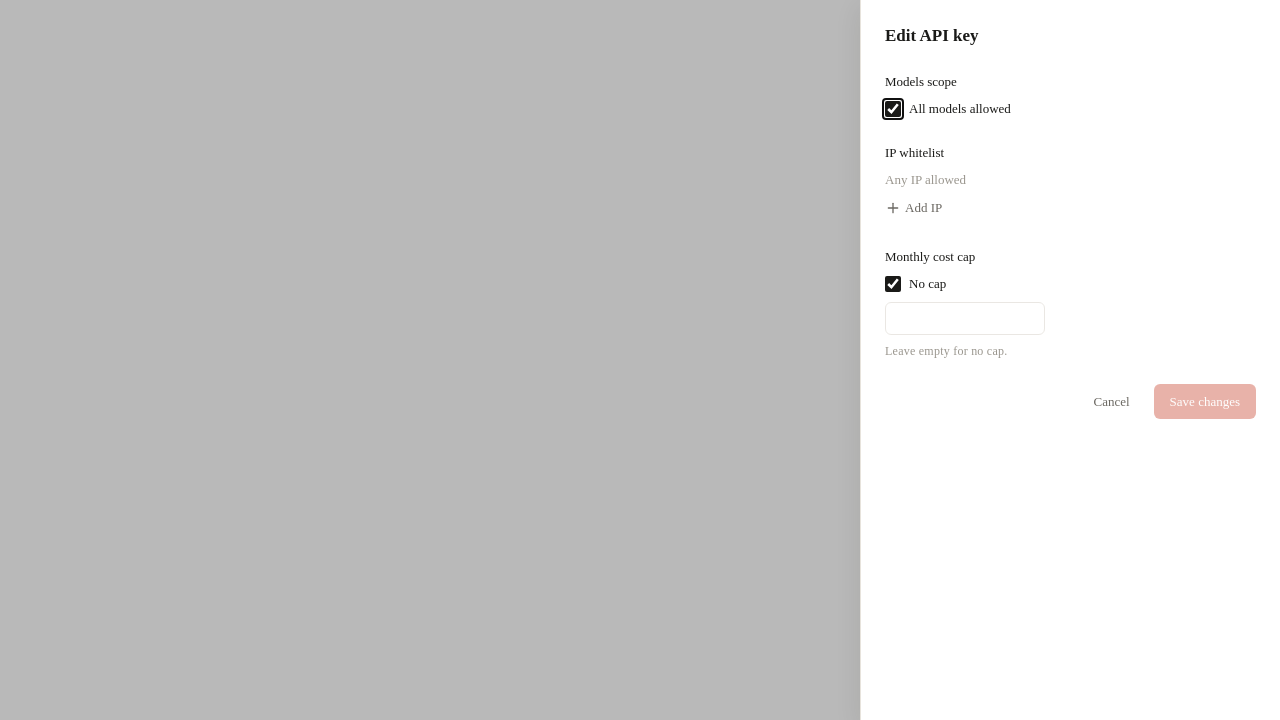
Test: AC3: Configure — ConfigureKeyDrawer / IpWhitelistEditor (component) › [BLIND-SPOT] 5.5-BLIND-DATA-003: configure 400 → form retains input + error toast + NO row mutation
Step 1. Click the checkbox labelled "No cap" → [893, 284], box [885, 276, 901, 292]
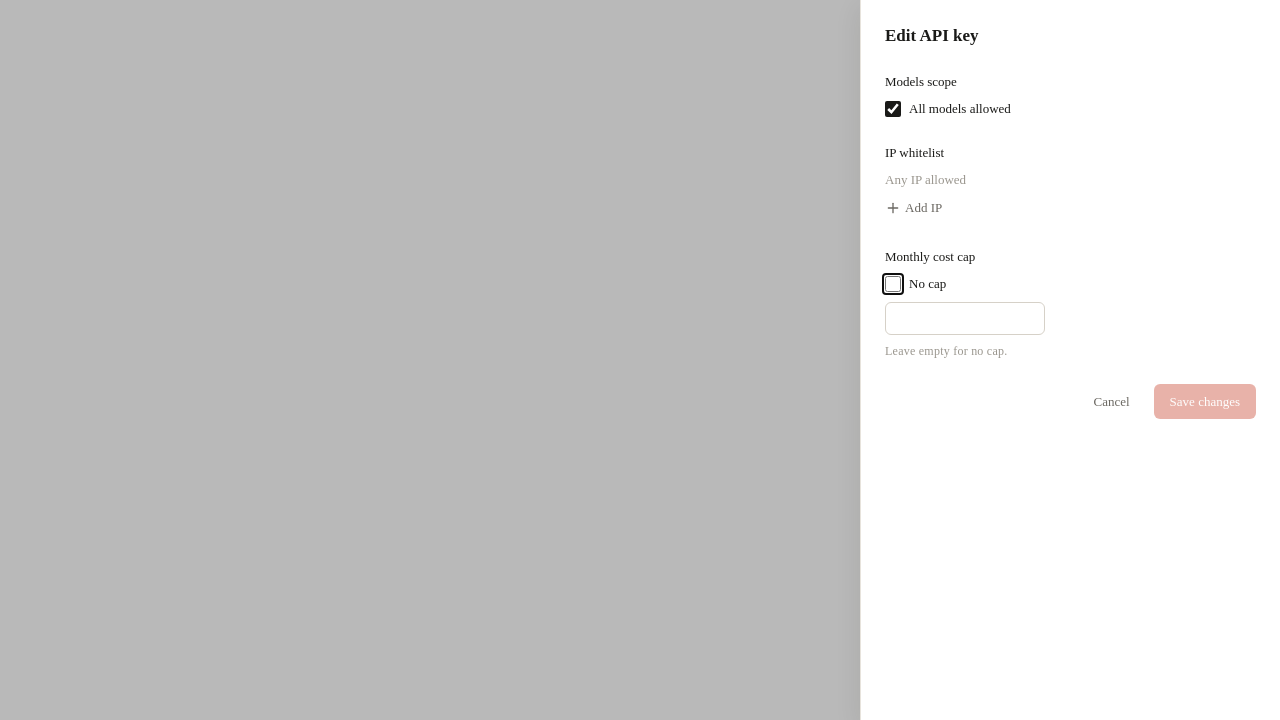
Step 2. Type "50.00" into the field named "Monthly cost cap in USD" → [965, 318], box [885, 302, 1045, 335]
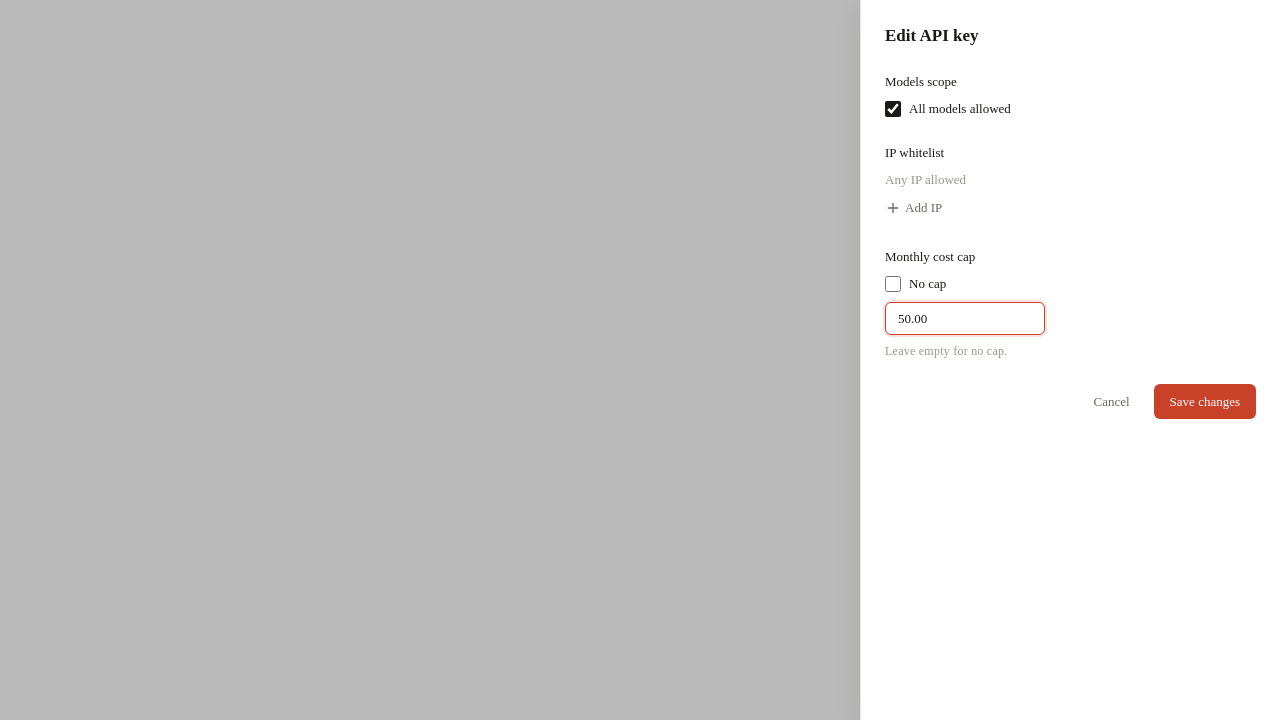
Step 3. Click the button "Save changes" → [1205, 402], box [1154, 384, 1256, 419]
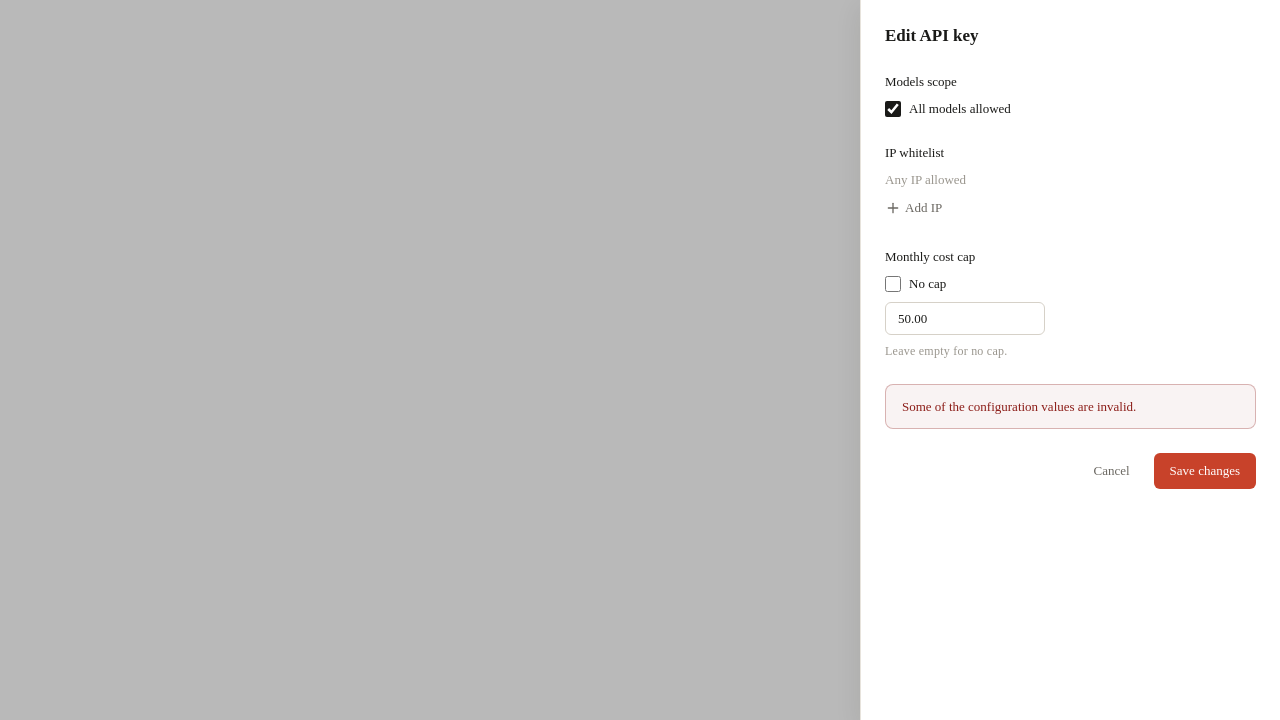
expect the text "Some of the configuration values are invalid." is shown: met, box [885, 384, 1256, 429]
